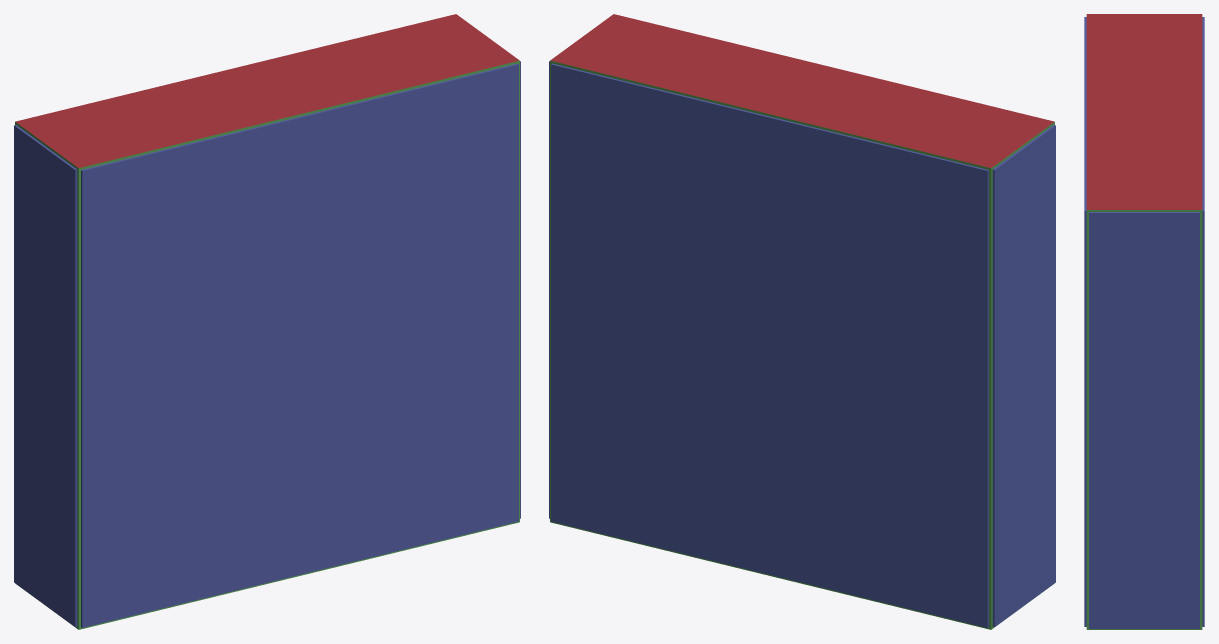
The model's file is SM_Wall_4x4_01.fbx.
The picture shows the model from 3 angles, left to right: view 1: azimuth 30°, elevation 25°; view 2: azimuth 150°, elevation 25°; view 3: azimuth 270°, elevation 25°; orthographic projection. The views are drawn at different scales.
Visible parts, largest first — view 1: SM_Wall_4x4_01; view 2: SM_Wall_4x4_01; view 3: SM_Wall_4x4_01.
Boxes of the visible parts, x1,y1,x2,y2 form: SM_Wall_4x4_01: [14, 14, 520, 629]; SM_Wall_4x4_01: [549, 14, 1055, 629]; SM_Wall_4x4_01: [1084, 14, 1204, 629].
Bounding box in the file's own units: 404 × 400 × 104.
